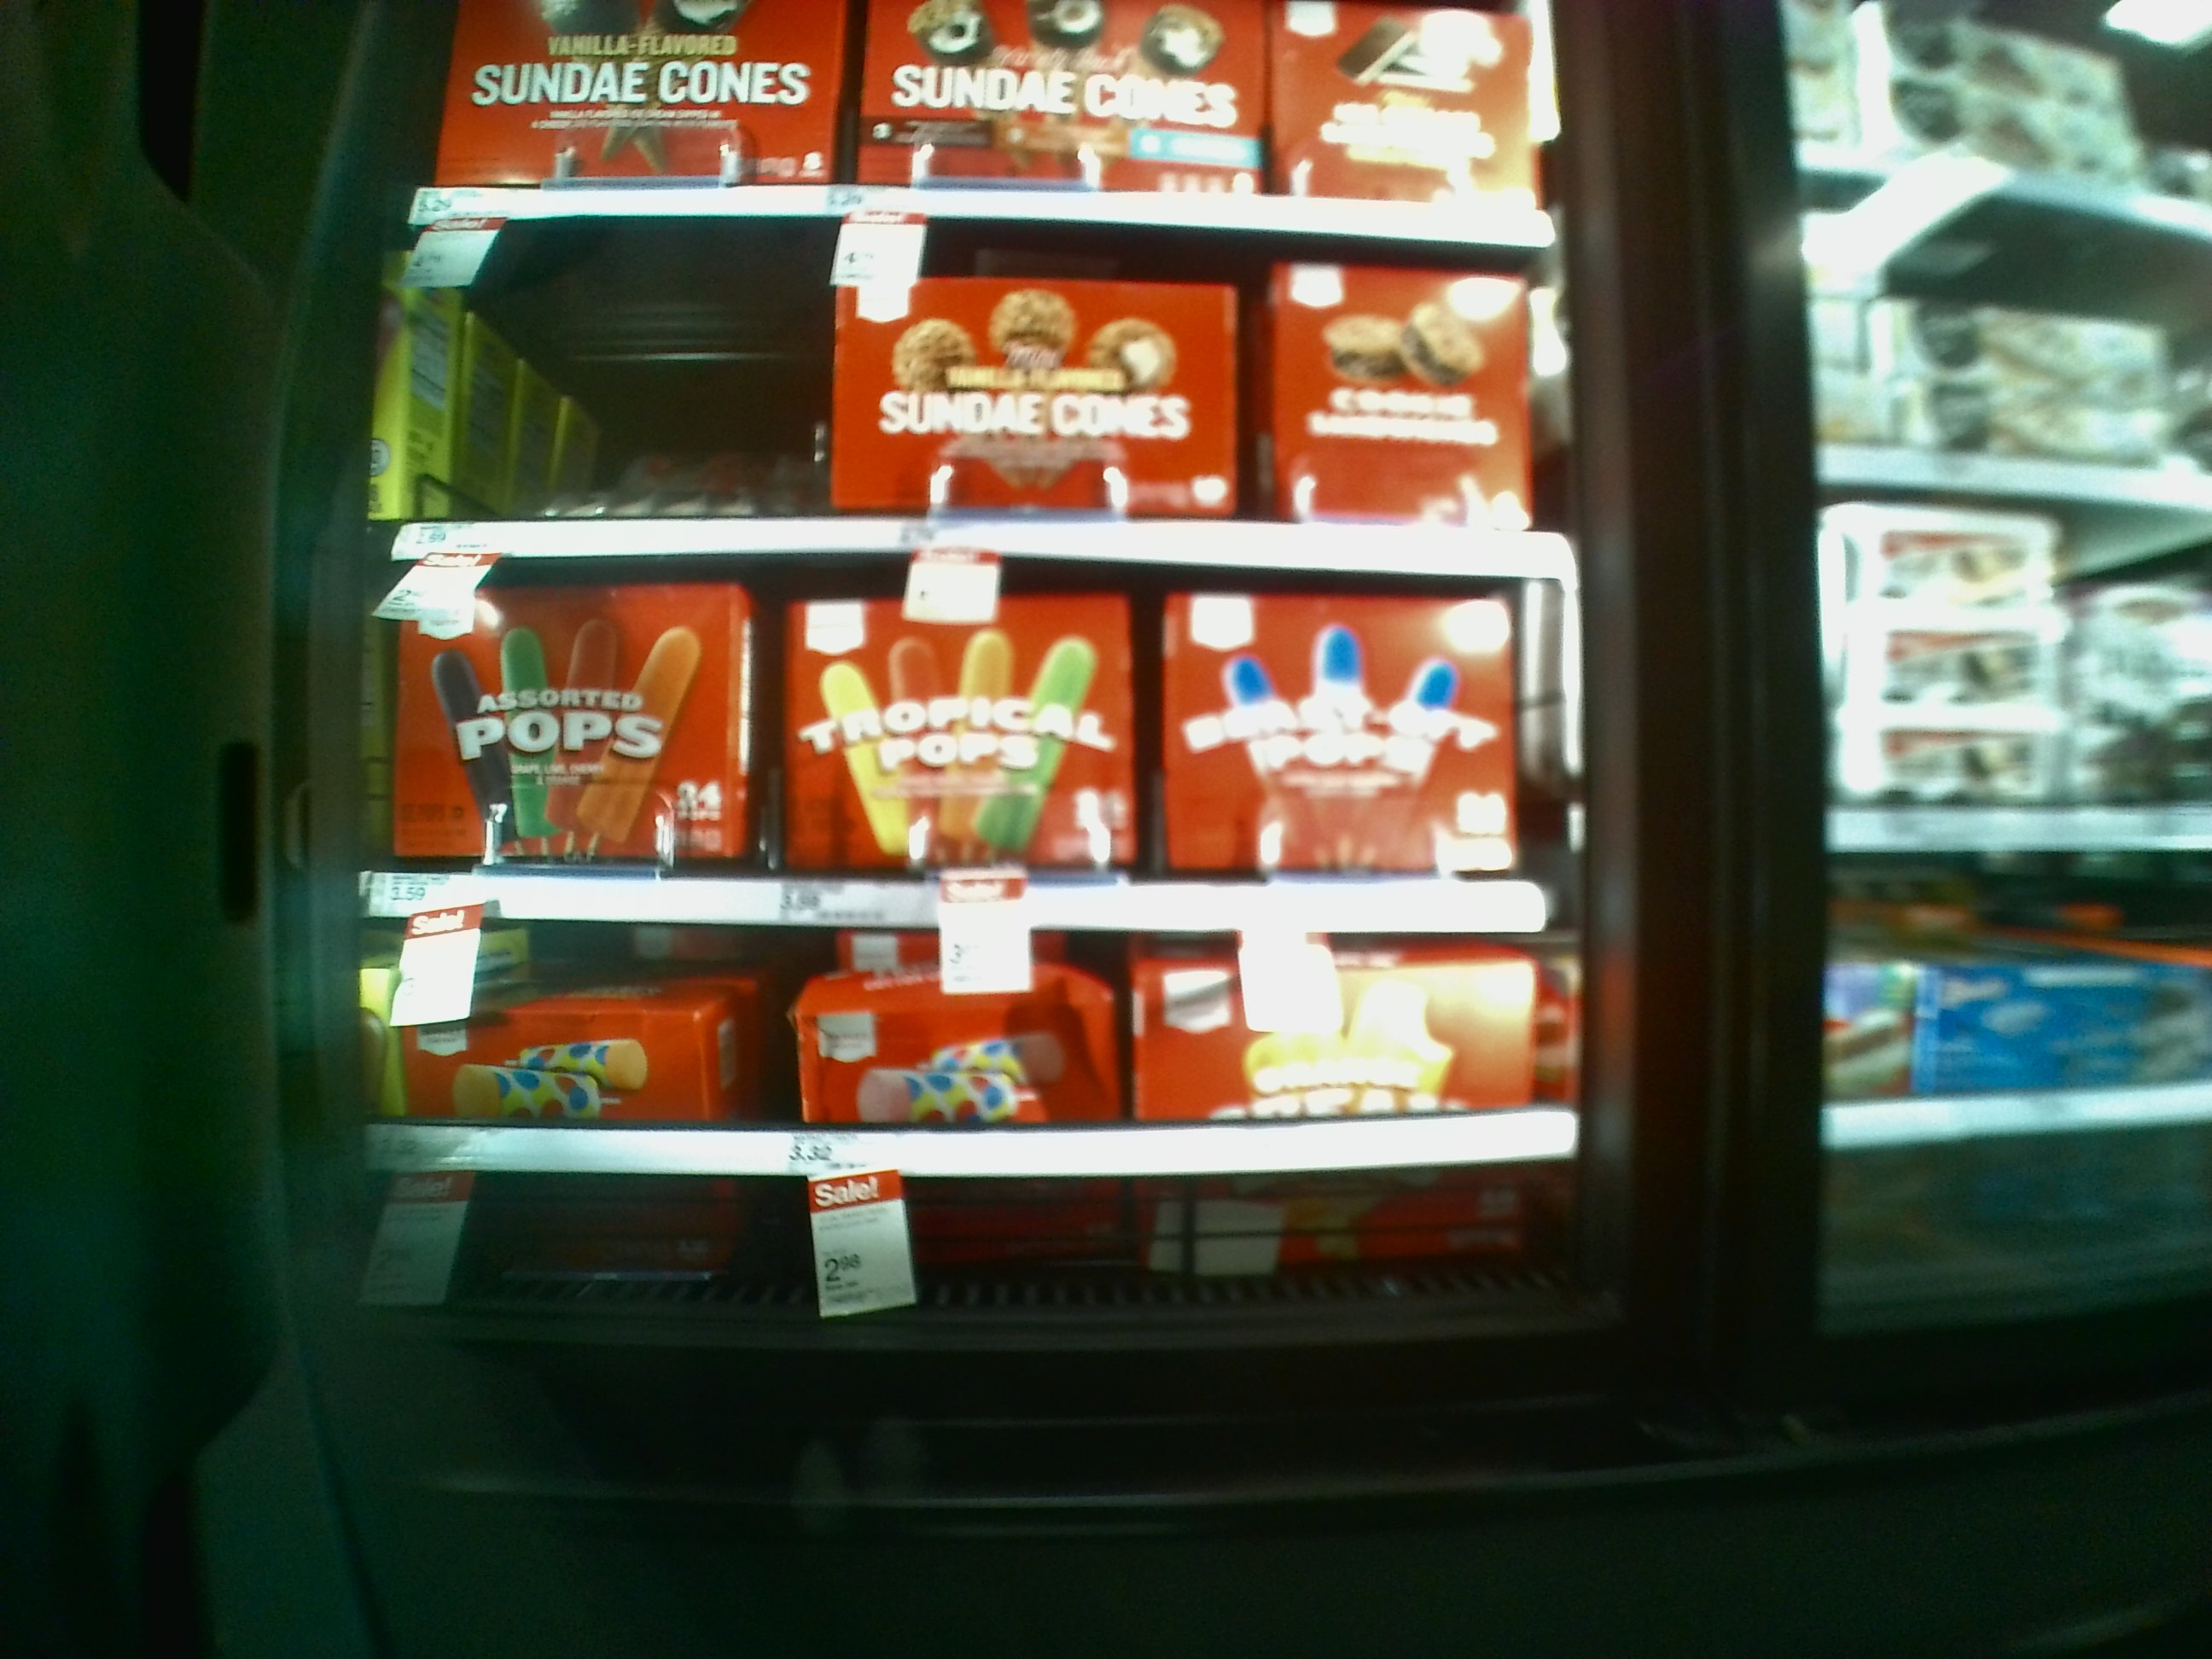shelf: (387, 913, 1581, 1297), (383, 559, 1569, 917), (402, 221, 1548, 587)
